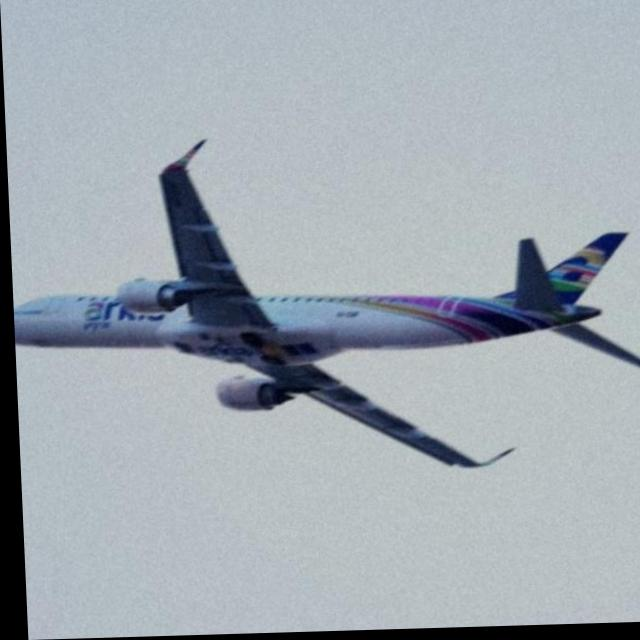airplane: (5, 123, 640, 491)
